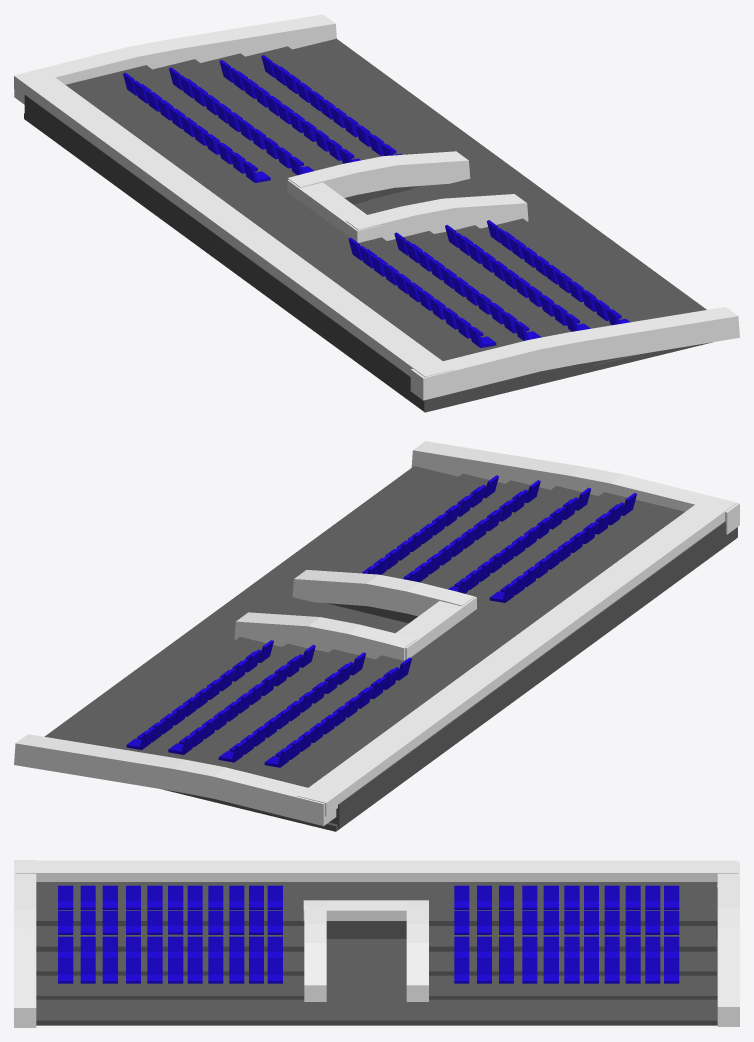
Rendered from SmallAudienceSeats.fbx.
The picture shows the model from 3 angles, top to bottom: view 1: azimuth 30°, elevation 25°; view 2: azimuth 150°, elevation 25°; view 3: azimuth 270°, elevation 25°; orthographic projection. The views are drawn at different scales.
Parts seen in each view (by area): view 1: 立方体.093; view 2: 立方体.093; view 3: 立方体.093.
Part boxes in pixels (<box>): 立方体.093: <box>14,14,739,412</box>; 立方体.093: <box>14,441,739,831</box>; 立方体.093: <box>14,860,739,1027</box>.
Size of the model in its own units: 1085 by 150 by 2452.
